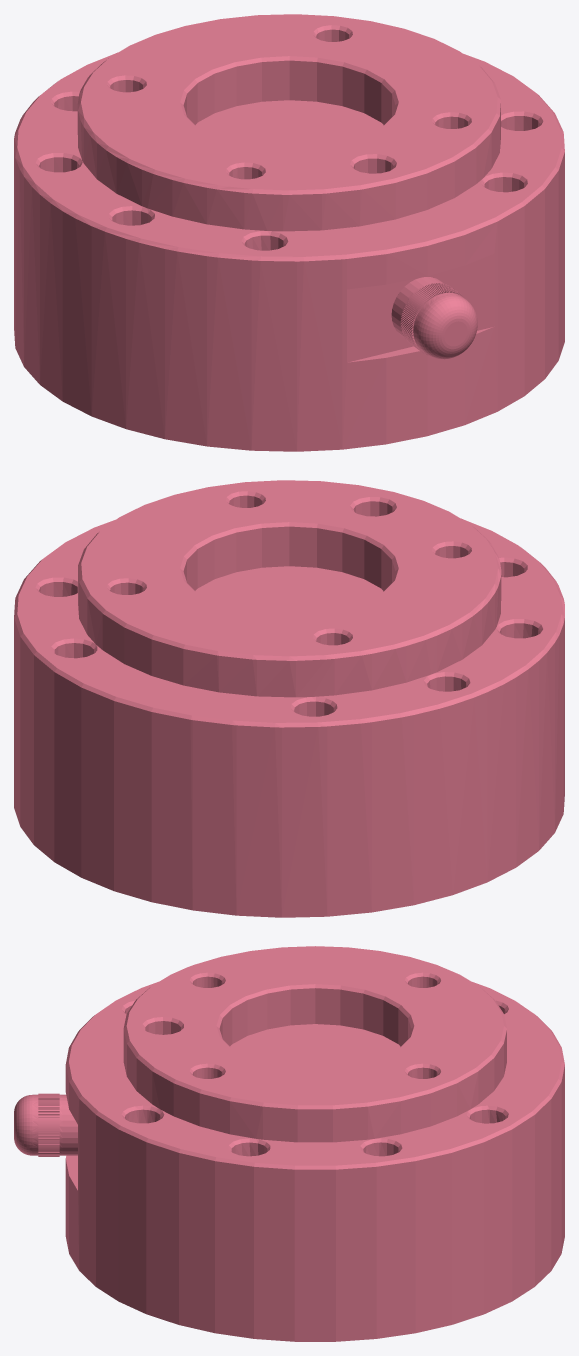
3 renders of one model, top to bottom at view 1: azimuth 30°, elevation 25°; view 2: azimuth 150°, elevation 25°; view 3: azimuth 270°, elevation 25°, orthographic. The views are drawn at different scales.
Visible parts, largest first — view 1: Link6; view 2: Link6; view 3: Link6.
Boxes of the visible parts, box(x1,y1,x2,y2) form: Link6: box(14, 14, 564, 451); Link6: box(14, 480, 564, 917); Link6: box(14, 946, 564, 1341).
Size of the model in its own units: 0.0819 by 0.0905 by 0.0382.
